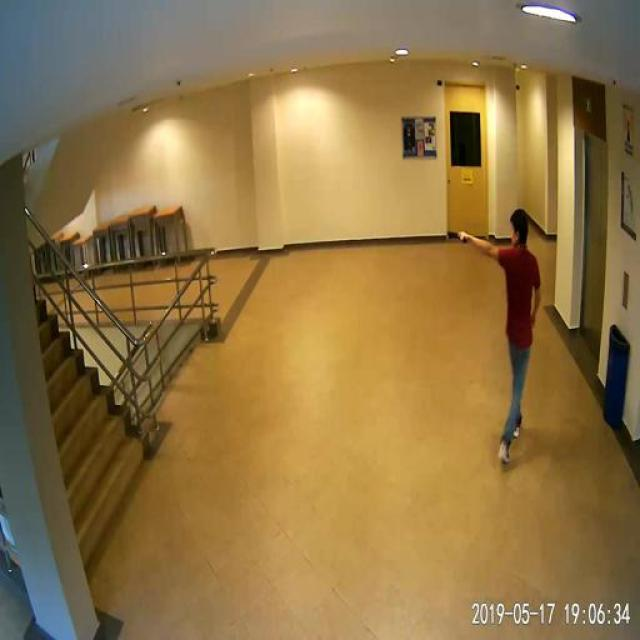Gun: (439, 224, 477, 268)
